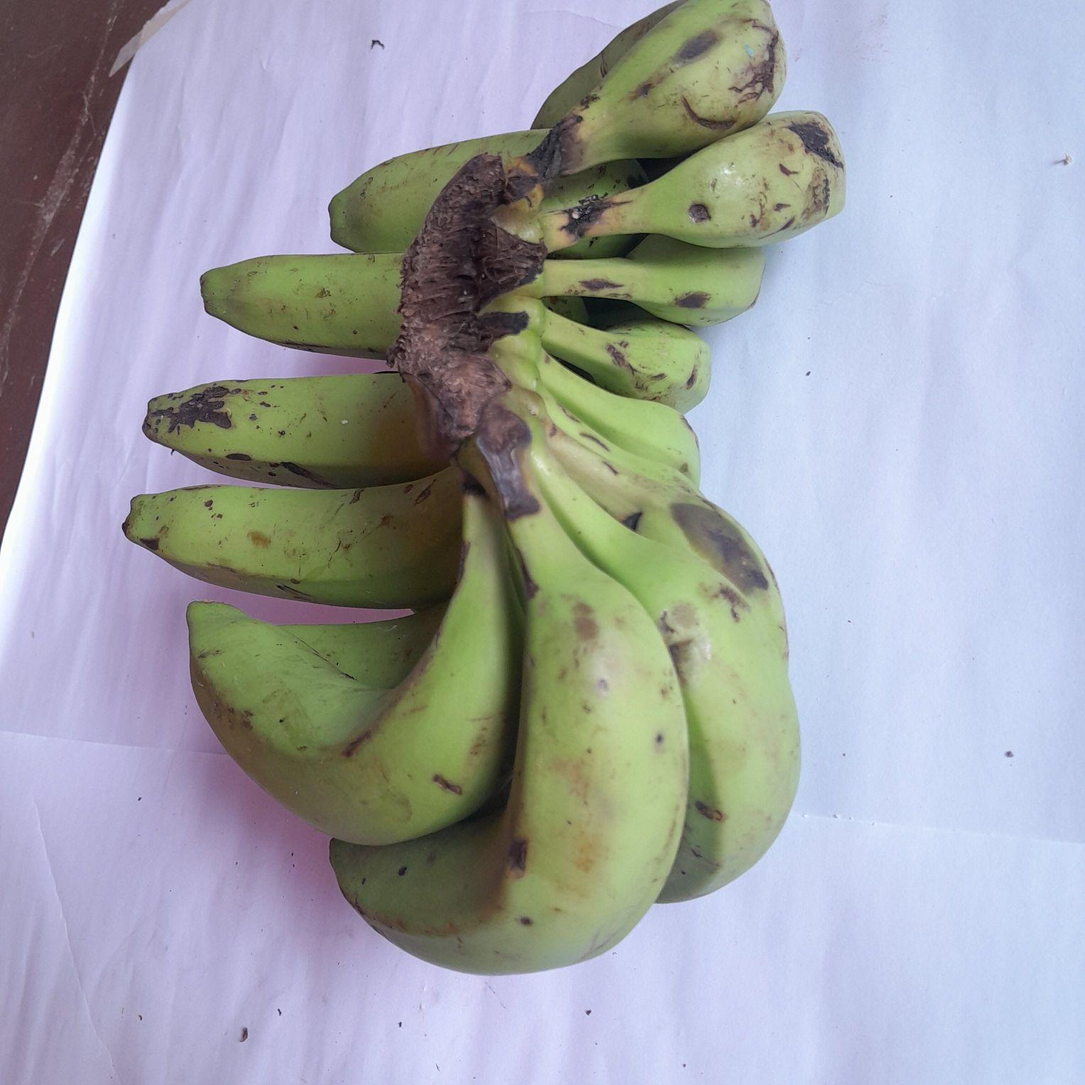Banana Unripe: (331, 392, 689, 975), (186, 475, 519, 844), (536, 458, 799, 903), (123, 468, 462, 608), (532, 0, 786, 178), (538, 112, 846, 250), (142, 373, 443, 487), (328, 129, 547, 252), (523, 235, 765, 326), (201, 252, 403, 358), (538, 354, 699, 482), (540, 309, 710, 412)
